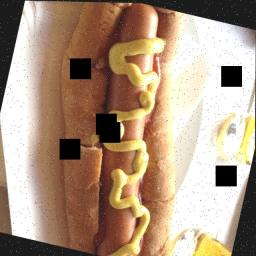hotdog: (74, 2, 162, 254), (110, 105, 171, 256)
